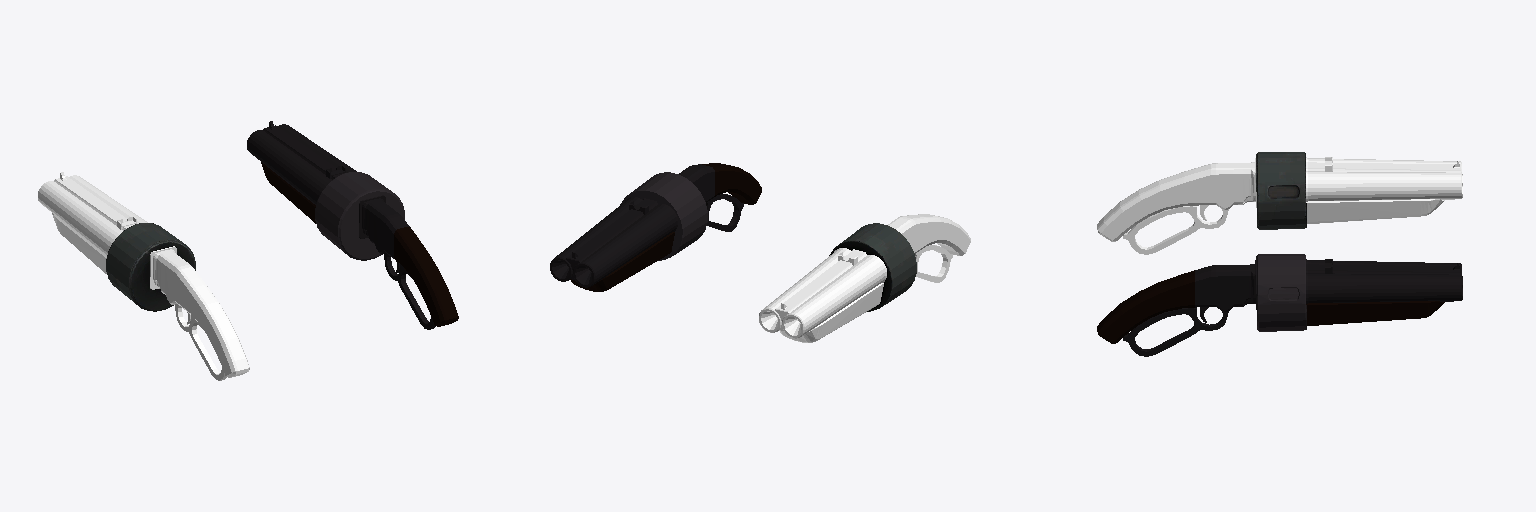
3 views of the same model, side by side, from view 1: azimuth 30°, elevation 25°; view 2: azimuth 150°, elevation 25°; view 3: azimuth 270°, elevation 25° (orthographic).
Visible parts, largest first — view 1: Main2, Main1, Drum2, Drum1, Grip2, Grip1, Foregrip1, Foregrip2, Lever1, Lever2; view 2: Main2, Main1, Drum1, Drum2, Grip1, Foregrip2, Foregrip1, Grip2, Lever1, Lever2; view 3: Main2, Main1, Drum2, Drum1, Grip1, Grip2, Foregrip2, Foregrip1, Lever1, Lever2.
Boxes of the visible parts, x1=… form: Main2: x1=38, y1=172, x2=200, y2=324; Main1: x1=247, y1=121, x2=409, y2=273; Drum2: x1=106, y1=223, x2=195, y2=311; Drum1: x1=315, y1=172, x2=404, y2=260; Grip2: x1=185, y1=278, x2=249, y2=377; Grip1: x1=394, y1=227, x2=458, y2=326; Foregrip1: x1=261, y1=162, x2=315, y2=223; Foregrip2: x1=52, y1=213, x2=106, y2=273; Lever1: x1=384, y1=253, x2=435, y2=329; Lever2: x1=175, y1=304, x2=226, y2=380; Main2: x1=759, y1=215, x2=923, y2=338; Main1: x1=550, y1=164, x2=714, y2=287; Drum1: x1=620, y1=172, x2=707, y2=260; Drum2: x1=829, y1=223, x2=916, y2=311; Grip1: x1=702, y1=163, x2=761, y2=204; Foregrip2: x1=779, y1=283, x2=883, y2=342; Foregrip1: x1=570, y1=232, x2=674, y2=291; Grip2: x1=911, y1=214, x2=970, y2=255; Lever1: x1=706, y1=194, x2=743, y2=231; Lever2: x1=915, y1=245, x2=952, y2=282; Main2: x1=1195, y1=157, x2=1462, y2=220; Main1: x1=1195, y1=259, x2=1462, y2=322; Drum2: x1=1256, y1=152, x2=1306, y2=229; Drum1: x1=1256, y1=254, x2=1306, y2=331; Grip1: x1=1097, y1=270, x2=1194, y2=343; Grip2: x1=1097, y1=168, x2=1194, y2=241; Foregrip2: x1=1306, y1=199, x2=1444, y2=223; Foregrip1: x1=1306, y1=301, x2=1444, y2=325; Lever1: x1=1123, y1=308, x2=1228, y2=356; Lever2: x1=1123, y1=206, x2=1228, y2=254.
Size of the model in its own units: 2.97 by 1.01 by 3.41.
Materials: 8 (1 with a texture image).